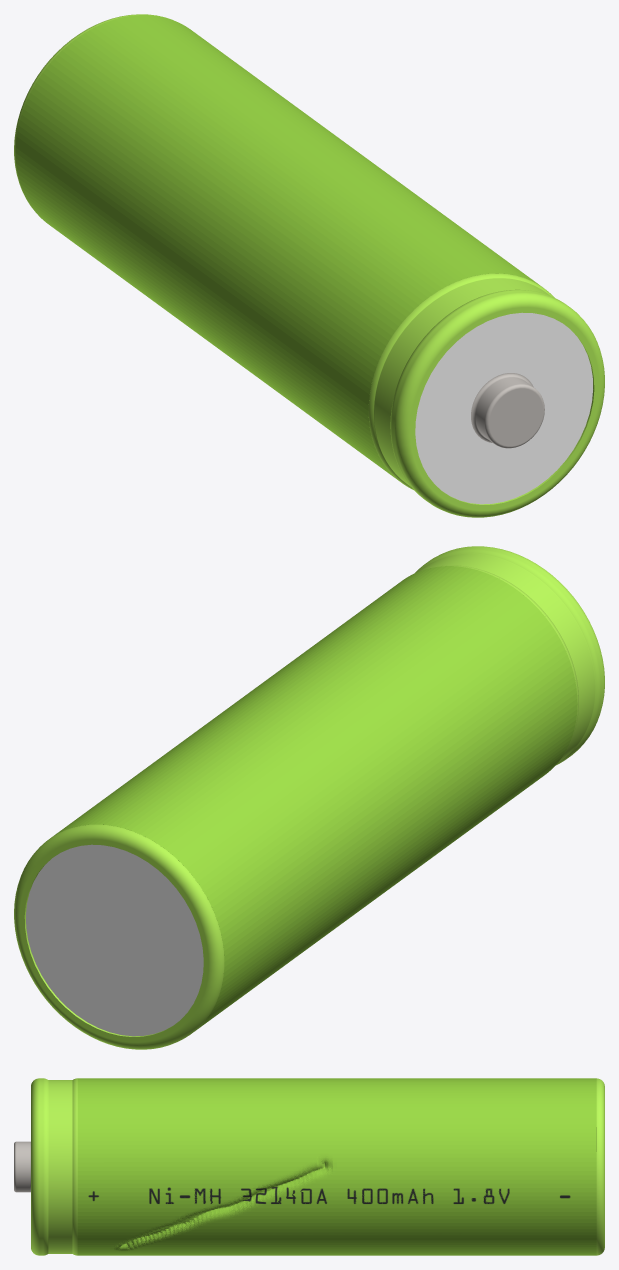
The model's file is defect_6.glb.
The picture shows the model from 3 angles, top to bottom: view 1: azimuth 30°, elevation 25°; view 2: azimuth 150°, elevation 25°; view 3: azimuth 270°, elevation 25°; orthographic projection. The views are drawn at different scales.
Visible parts, largest first — view 1: Cylinder, Cell_Top; view 2: Cylinder, Cell_bottom, Cell_Top; view 3: Cylinder, Cell_Top, Cell_bottom.
Boxes of the visible parts, box(x1,y1,x2,y2) form: Cylinder: box(15, 15, 550, 480); Cell_Top: box(368, 273, 604, 517); Cylinder: box(52, 566, 577, 1031); Cell_bottom: box(14, 824, 224, 1049); Cell_Top: box(415, 546, 604, 765); Cylinder: box(77, 1078, 596, 1255); Cell_Top: box(14, 1078, 77, 1255); Cell_bottom: box(596, 1078, 604, 1255).
Size of the model in its own units: 0.021 by 0.021 by 0.07.
10 materials, 1 textured.
